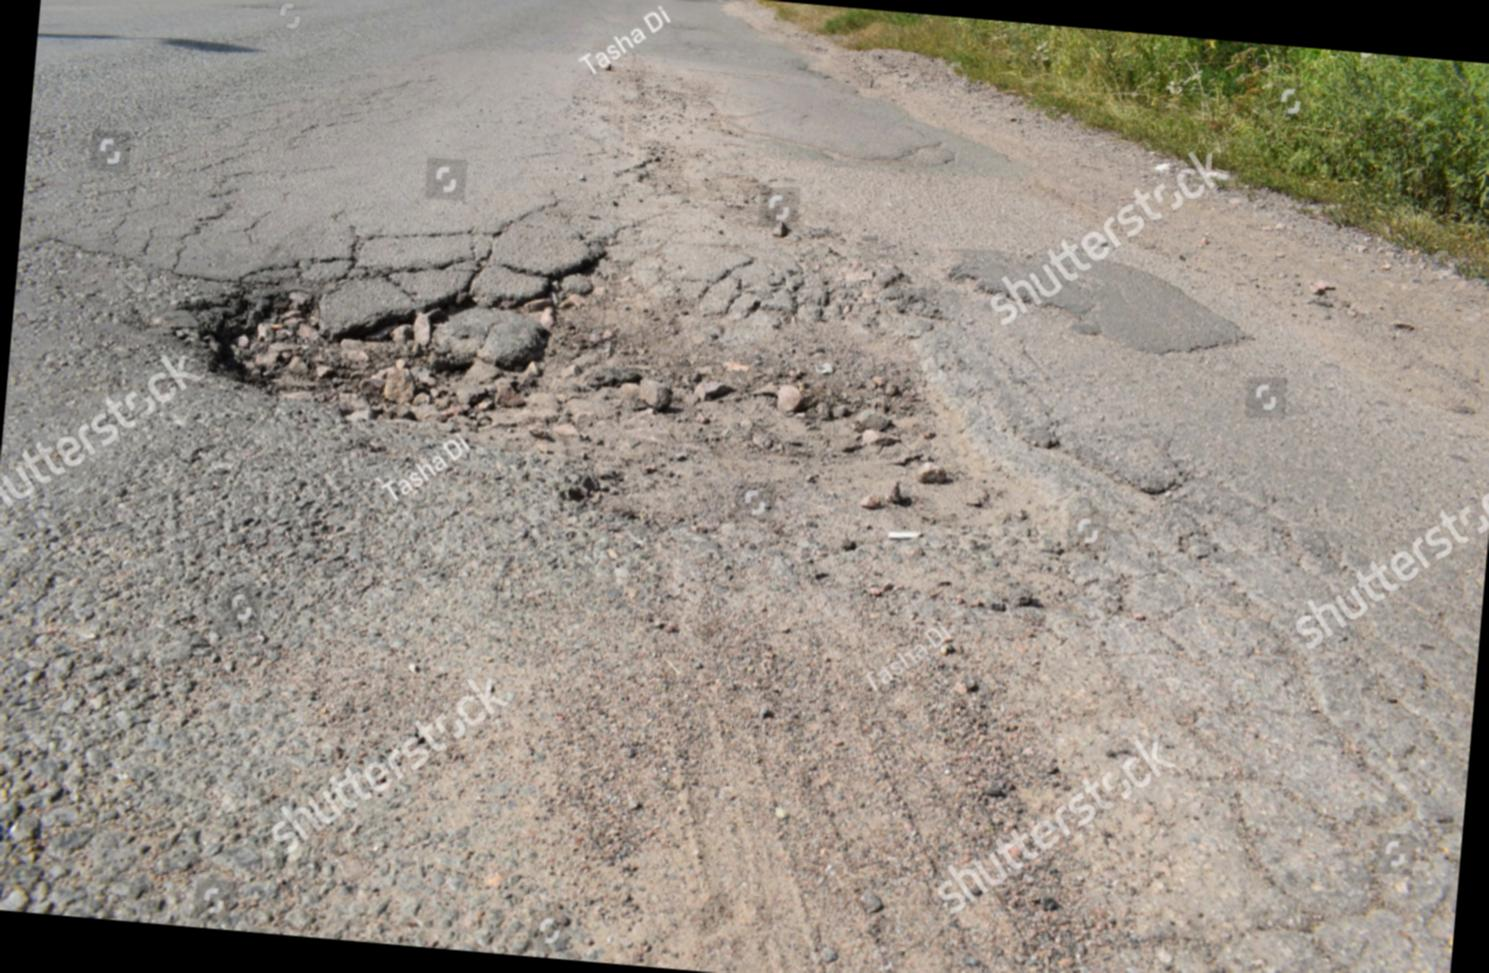pothole: (154, 184, 1080, 647)
